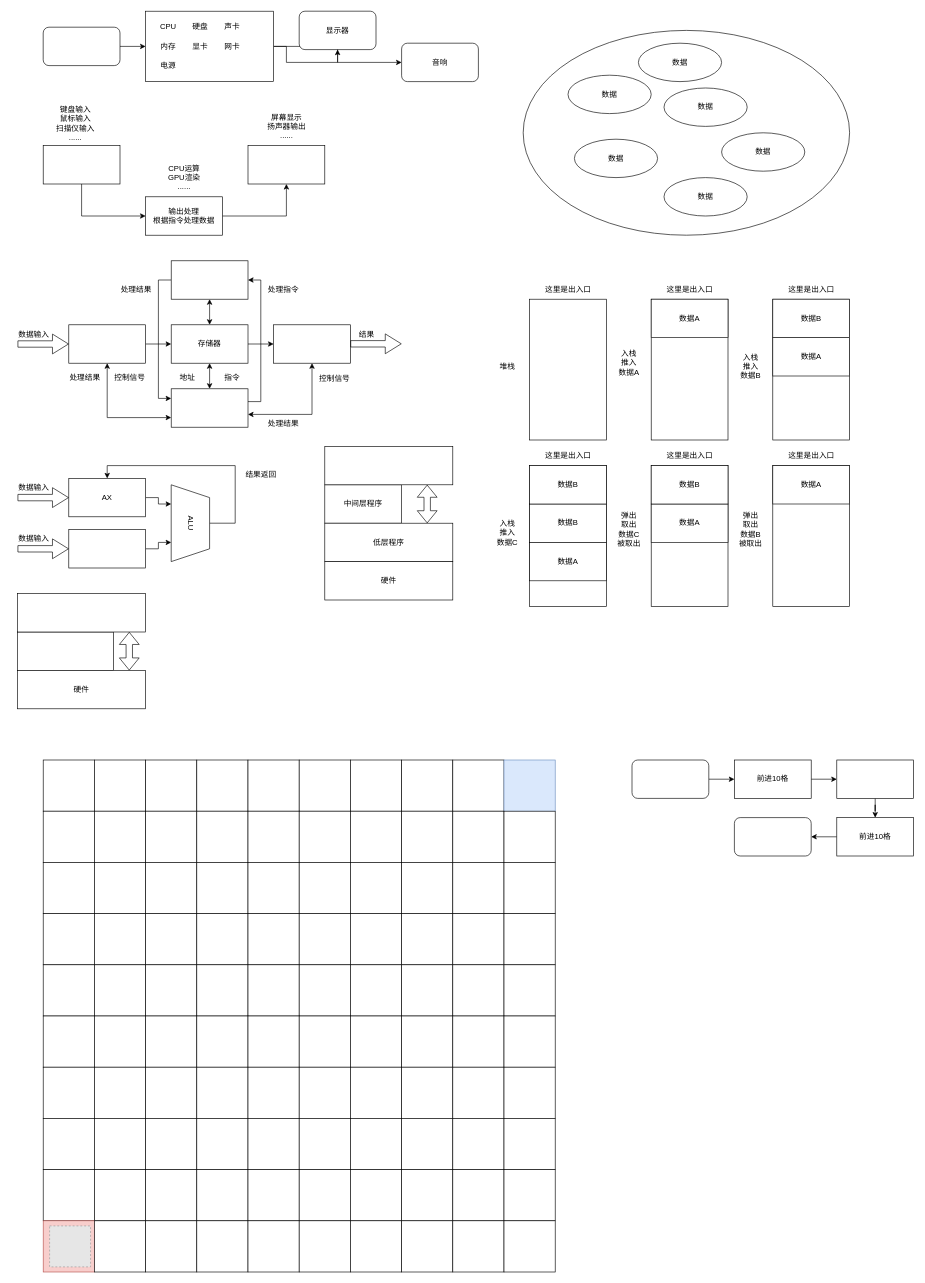
Image size: 925x1283. Some labels were removed from this diagram. Grey dashed boxes stand in for pictures. Here are the shapes that lost their labels. From the top down, the box of each, then its label:
(43, 27, 120, 66): 鼠标键盘
(43, 145, 120, 184): 输入指令/数据
(247, 145, 325, 184): 输出结果
(171, 260, 248, 299): 运算器
(68, 324, 146, 363): 输入设备
(273, 324, 350, 363): 输出设备
(171, 388, 248, 427): 控制器
(324, 446, 453, 485): 顶层程序
(68, 529, 146, 568): CX
(17, 593, 146, 632): 应用程序
(17, 631, 114, 670): 操作系统 驱动程序 中间层驱动等
(631, 759, 709, 798): 开始
(836, 759, 914, 798): 向右旋转90度
(734, 817, 811, 856): 结束
